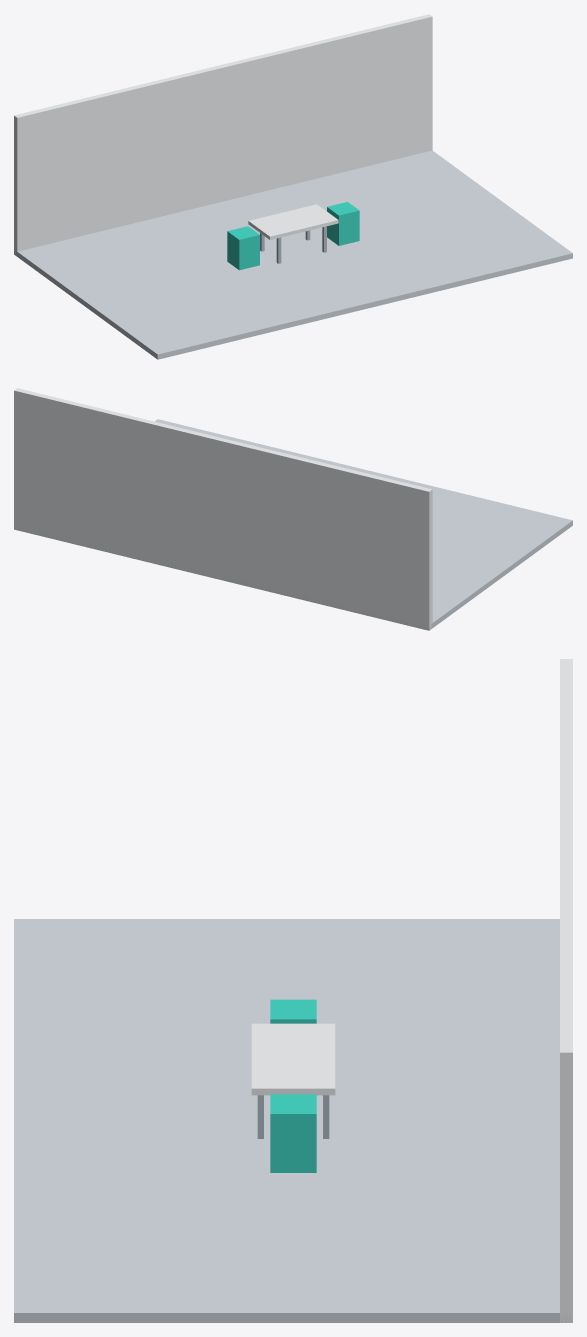
3 renders of one model, top to bottom at view 1: azimuth 30°, elevation 25°; view 2: azimuth 150°, elevation 25°; view 3: azimuth 270°, elevation 25°, orthographic. The views are drawn at different scales.
Visible parts, largest first — view 1: Exhibition Booth Concept; view 2: Exhibition Booth Concept; view 3: Exhibition Booth Concept.
Boxes of the visible parts, x1,y1,x2,y2 form: Exhibition Booth Concept: (14, 14, 572, 359); Exhibition Booth Concept: (14, 388, 572, 630); Exhibition Booth Concept: (14, 659, 572, 1322).
Size of the model in its own units: 10 by 3.2 by 6.
